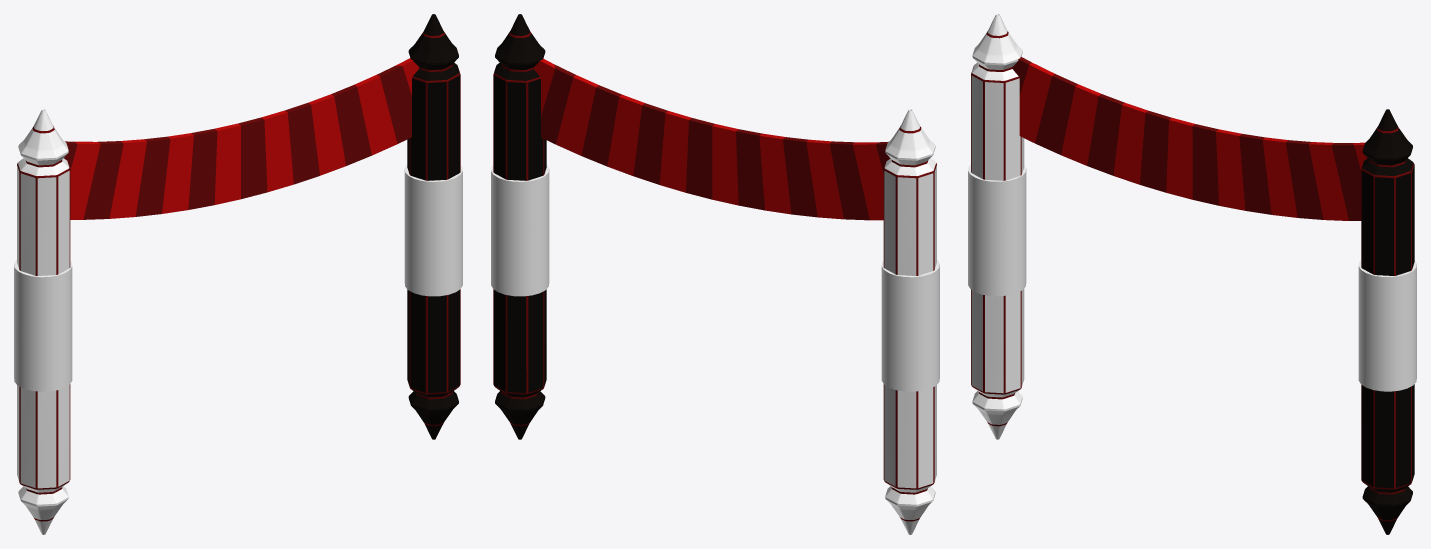
Rendered from Post.fbx.
3 views of the same model, side by side, from view 1: azimuth 30°, elevation 25°; view 2: azimuth 150°, elevation 25°; view 3: azimuth 330°, elevation 25° (orthographic).
Visible parts, largest first — view 1: pasted__pCube12; view 2: pasted__pCube12; view 3: pasted__pCube12.
Boxes of the visible parts, x1,y1,x2,y2 form: pasted__pCube12: (14, 14, 462, 534); pasted__pCube12: (491, 14, 939, 534); pasted__pCube12: (968, 14, 1416, 534).
Size of the model in its own units: 6240 by 5731 by 717.
